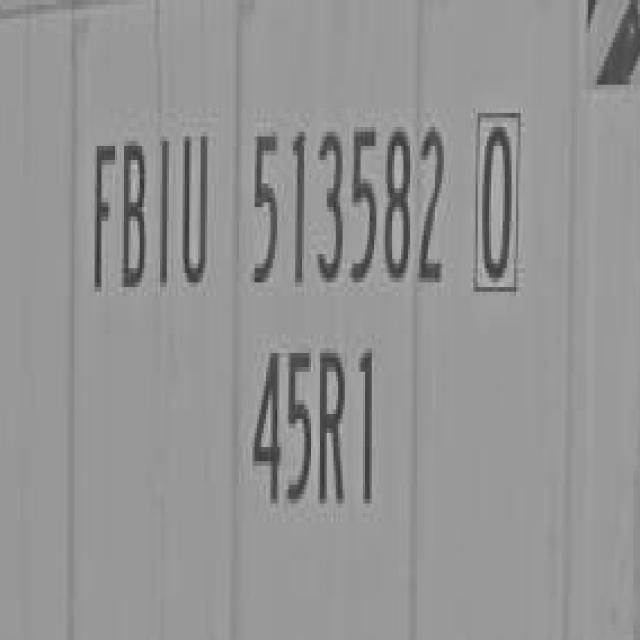dv: (464, 101, 528, 303)
owner: (84, 116, 213, 308)
serial: (248, 113, 452, 297)
size: (246, 334, 383, 526)
